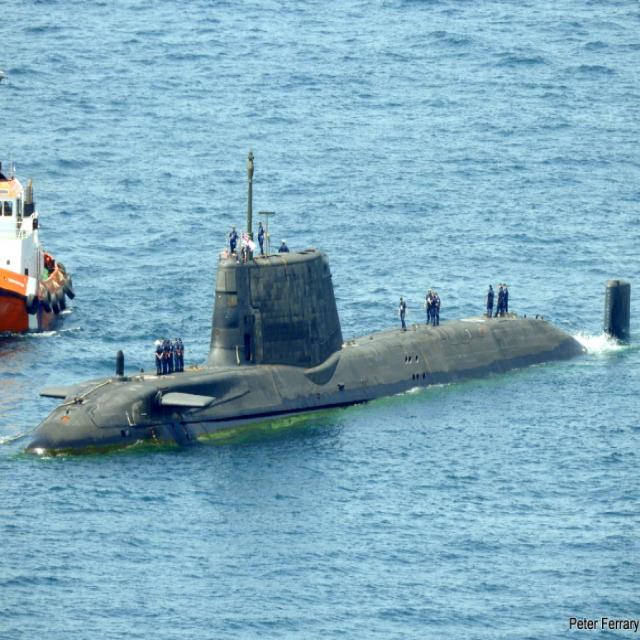submarine: (31, 146, 640, 457)
